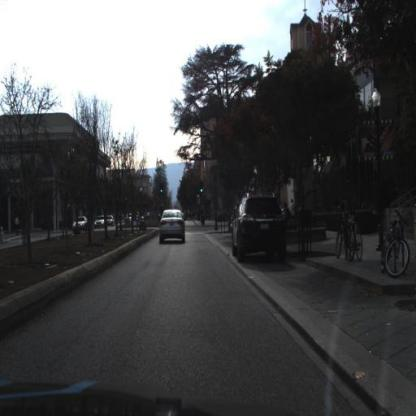car: (232, 190, 289, 265), (157, 204, 189, 252), (72, 217, 90, 233), (95, 215, 108, 230), (105, 212, 117, 228)
pedestrian: (15, 214, 21, 237)
trafficLight-Green: (160, 181, 165, 197), (199, 181, 204, 195)
